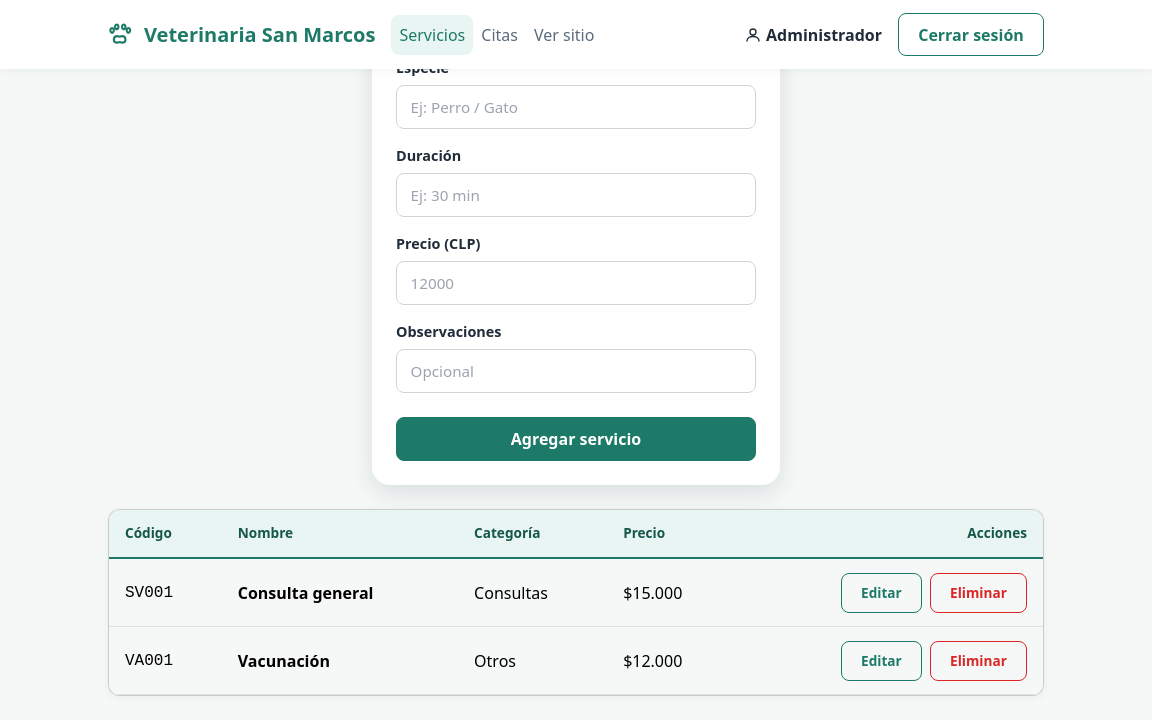
Test case: Página AdminServicios › muestra mensaje cuando se eliminan todos
The width and height of the screenshot is (1152, 720).
(page scrolled)
Click the button "Eliminar" in the row of "SV001".
click(978, 593)  # box [930, 573, 1027, 613]
(page scrolled)
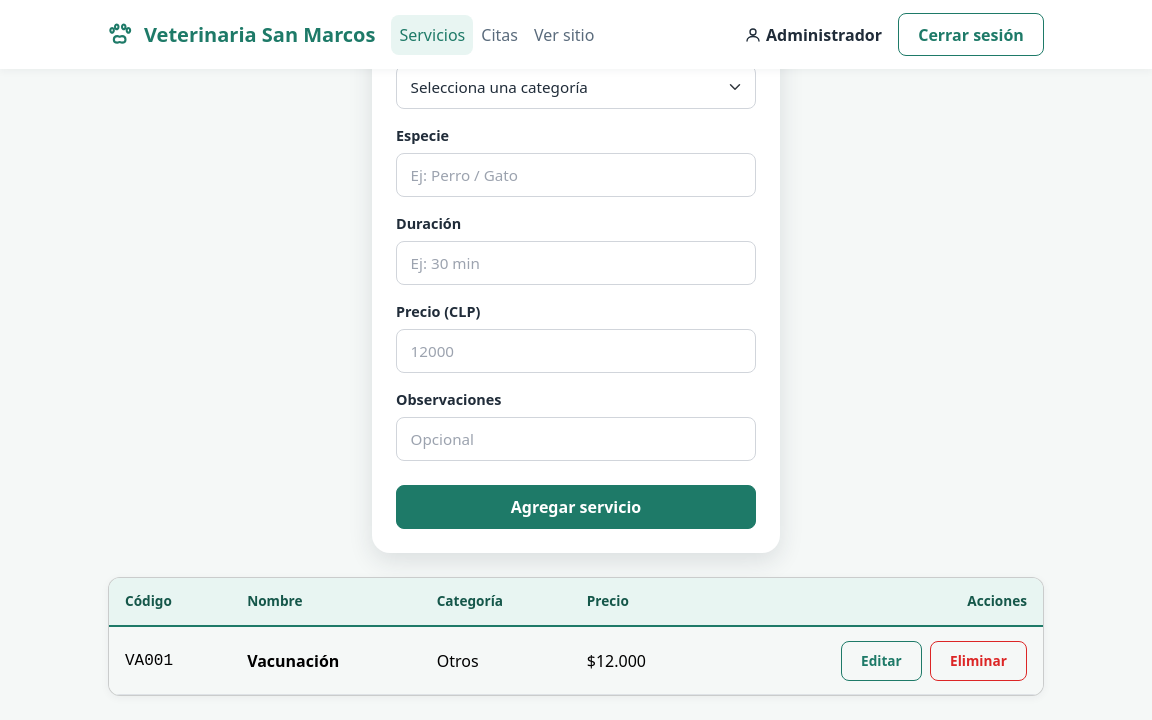
Click the button "Eliminar".
click(978, 661)  # box [930, 641, 1027, 681]
(page scrolled)
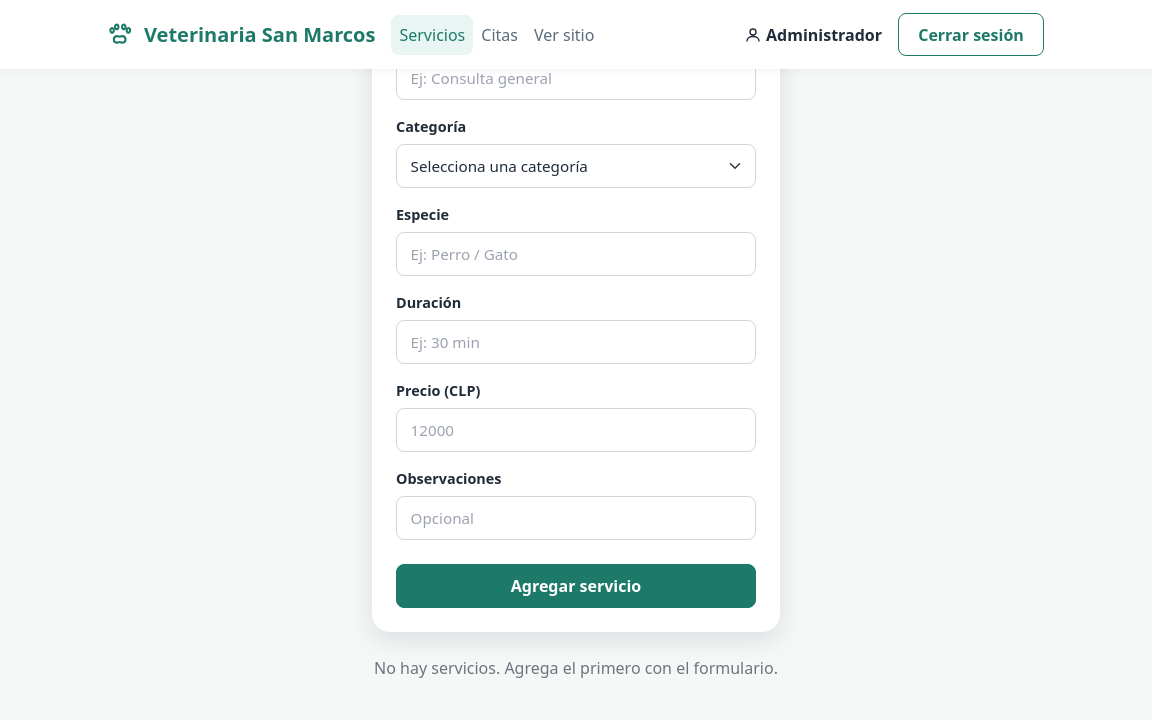
Check: the text "No hay servicios. Agrega el primero con el formulario." is shown, box [374, 657, 778, 679]
